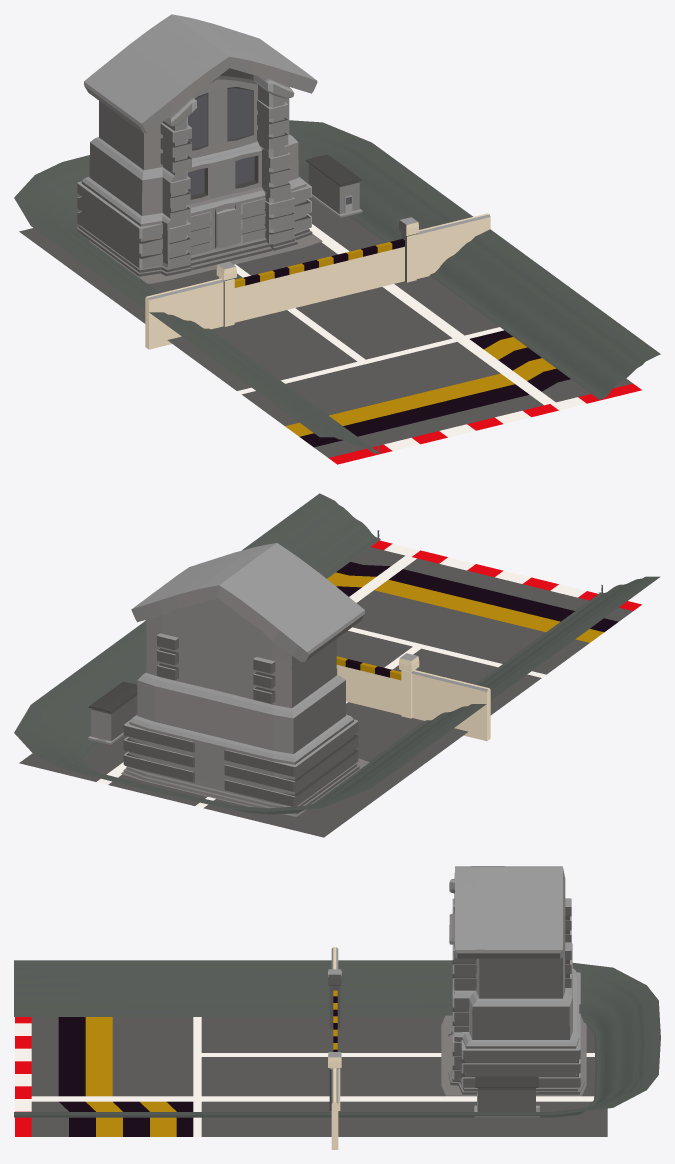
The model's file is Shop.gltf.
3 views of the same model, one above another, from view 1: azimuth 30°, elevation 25°; view 2: azimuth 150°, elevation 25°; view 3: azimuth 270°, elevation 25° (orthographic). The views are drawn at different scales.
Visible parts, largest first — view 1: Asphalt, Bank, Ground, Gate_Colums, Gate, Cube.002, Service, Cube.001, Cube.004, Cube.003, Cube.007, Cube.006 (+2 smaller); view 2: Bank, Asphalt, Ground, Cube.002, Gate_Colums, Gate, Cube.001, Service, Cube.004, Cube.003; view 3: Asphalt, Ground, Bank, Cube.001, Service, Gate_Colums, Cube.003, Cube.005.
Part boxes in pixels (x1,y1,x2,y2): Asphalt: (19, 197, 641, 464); Bank: (76, 14, 322, 284); Ground: (14, 120, 660, 453); Gate_Colums: (145, 213, 490, 349); Gate: (234, 239, 404, 322); Cube.002: (77, 181, 211, 268); Service: (306, 154, 362, 217); Cube.001: (241, 181, 311, 242); Cube.004: (160, 123, 191, 172); Cube.003: (257, 99, 288, 149); Cube.007: (264, 197, 294, 244); Cube.006: (162, 176, 190, 223); Bank: (121, 543, 369, 816); Asphalt: (19, 540, 641, 837); Ground: (14, 493, 660, 814); Cube.002: (224, 719, 358, 806); Gate_Colums: (145, 620, 490, 741); Gate: (336, 656, 401, 714); Cube.001: (123, 719, 194, 782); Service: (88, 681, 137, 744); Cube.004: (253, 657, 275, 703); Cube.003: (157, 633, 178, 680); Asphalt: (15, 1017, 607, 1136); Ground: (14, 960, 660, 1117); Bank: (441, 866, 586, 1096); Cube.001: (461, 1018, 580, 1087); Service: (474, 1077, 539, 1117); Gate_Colums: (328, 947, 341, 1149); Cube.003: (452, 942, 571, 987); Cube.005: (452, 989, 469, 1035).
Size of the model in its own units: 69.56 by 40.63 by 123.
